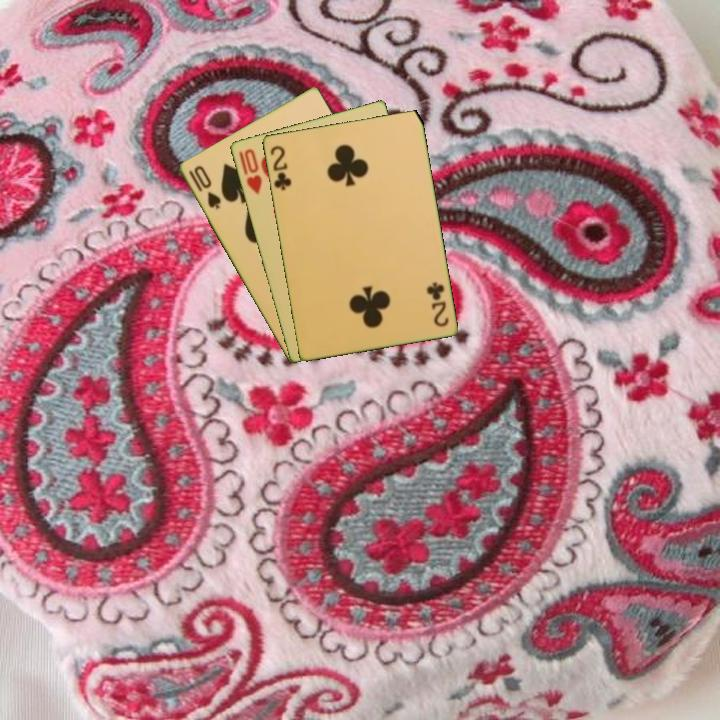10h: (240, 145, 264, 197)
10s: (185, 162, 224, 212)
2c: (266, 142, 294, 193), (424, 278, 451, 329)
